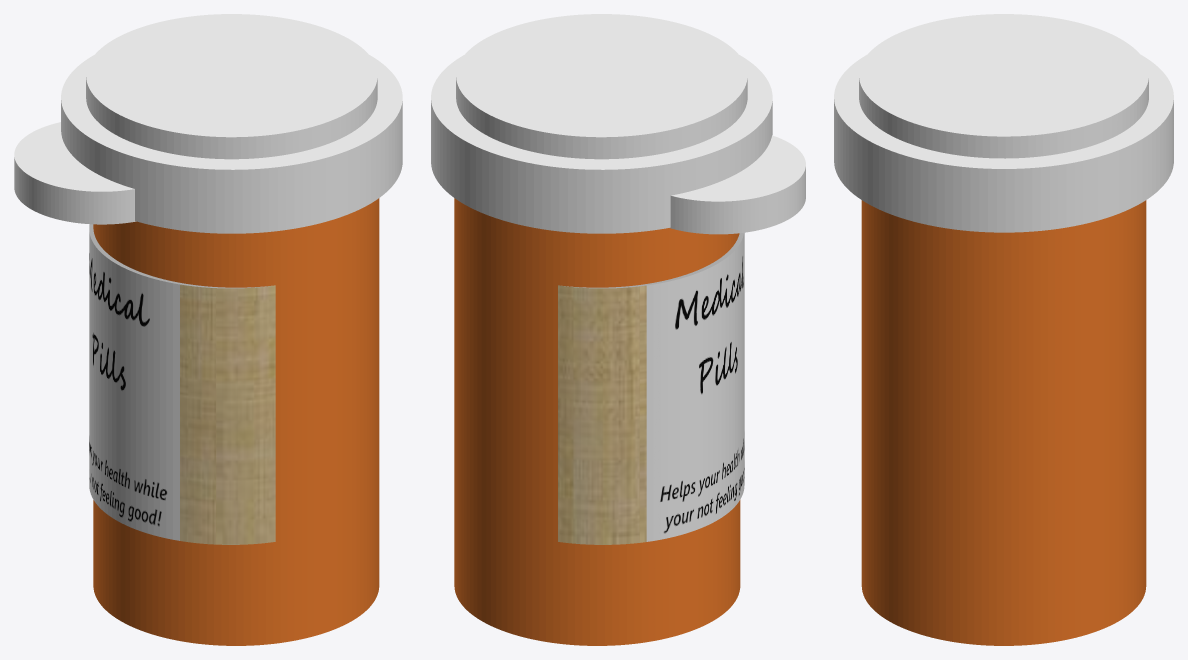
File: medpillsfinale.glb
The picture shows the model from 3 angles, left to right: view 1: azimuth 30°, elevation 25°; view 2: azimuth 150°, elevation 25°; view 3: azimuth 270°, elevation 25°; orthographic projection.
Bounding box in the file's own units: 0.0561 × 0.0789 × 0.0478.
5 materials, 2 textured.
